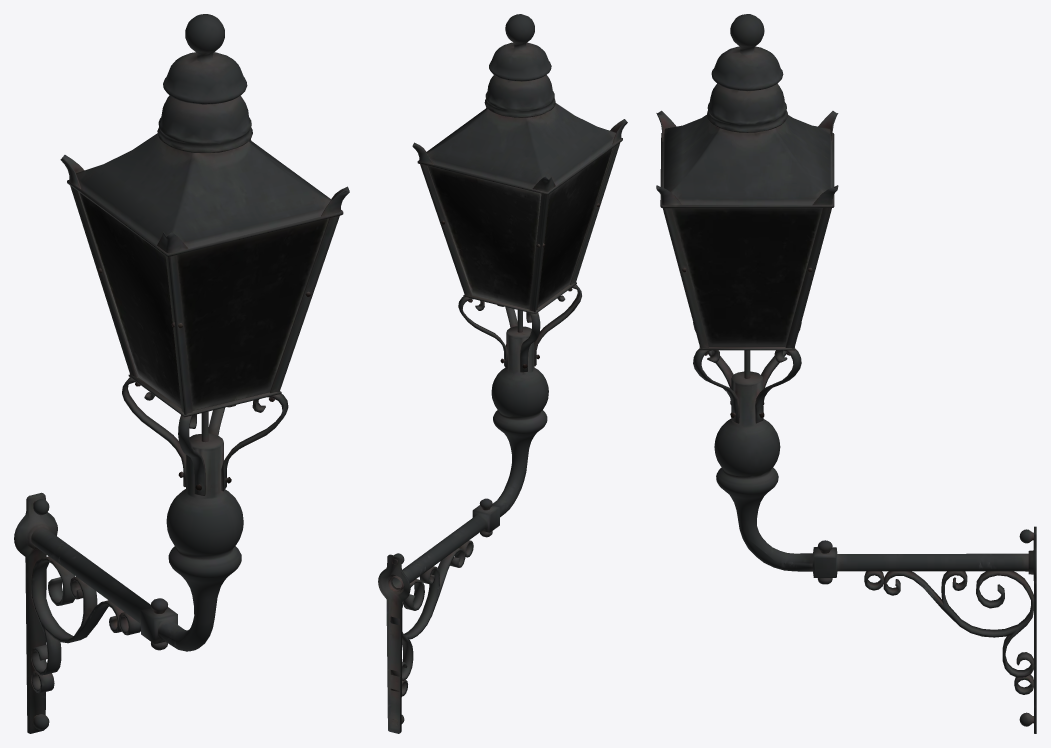
File: street_lamp_02.glb
3 renders of one model, left to right at view 1: azimuth 30°, elevation 25°; view 2: azimuth 150°, elevation 25°; view 3: azimuth 270°, elevation 25°, orthographic. The views are drawn at different scales.
Visible parts, largest first — view 1: street_lamp_02; view 2: street_lamp_02; view 3: street_lamp_02.
Boxes of the visible parts, x1,y1,x2,y2 form: street_lamp_02: [14, 14, 349, 733]; street_lamp_02: [378, 14, 627, 733]; street_lamp_02: [656, 14, 1036, 733].
Bounding box in the file's own units: 0.3862 × 1.67 × 0.8068.
2 materials, 2 textured.
